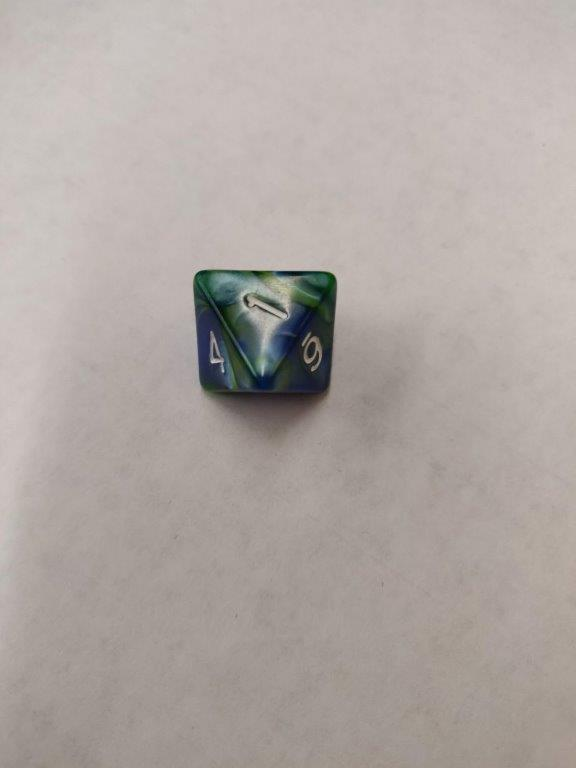d8-1: (195, 270, 335, 396)
